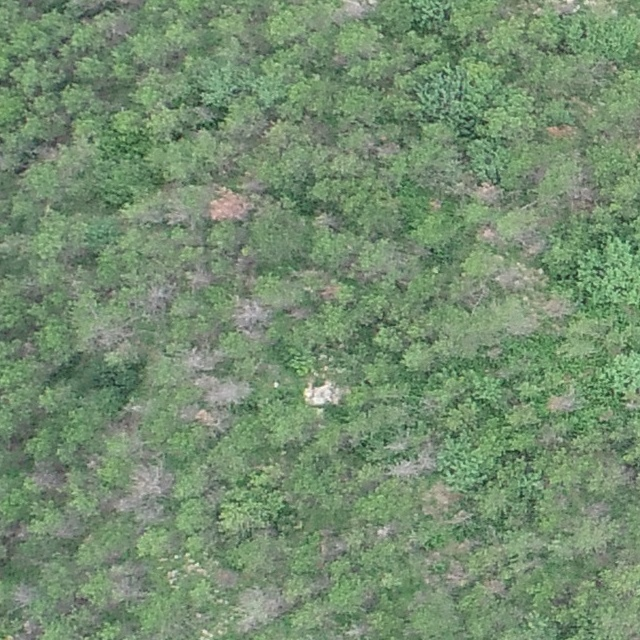unhealthy: (236, 587, 291, 632), (204, 185, 255, 222), (229, 297, 273, 337), (128, 464, 175, 499), (108, 561, 147, 602), (203, 377, 253, 407), (492, 263, 542, 292), (181, 404, 233, 431), (104, 404, 144, 439), (92, 323, 134, 351), (181, 344, 223, 372), (143, 279, 176, 313), (565, 180, 598, 211), (424, 481, 459, 509), (316, 530, 347, 561), (29, 464, 64, 491), (515, 228, 548, 256), (132, 502, 168, 525), (185, 264, 214, 291), (475, 180, 504, 207), (232, 248, 259, 276), (53, 516, 82, 542), (314, 208, 345, 232), (542, 295, 573, 319), (368, 137, 400, 159), (340, 0, 375, 20), (546, 391, 577, 413), (388, 457, 420, 478), (445, 563, 470, 589), (10, 582, 35, 608), (536, 426, 563, 450), (583, 498, 611, 521), (475, 223, 501, 247), (163, 205, 192, 226), (214, 566, 240, 589), (416, 446, 438, 473), (16, 619, 43, 639), (549, 0, 579, 16), (483, 576, 508, 595), (376, 521, 396, 538)
